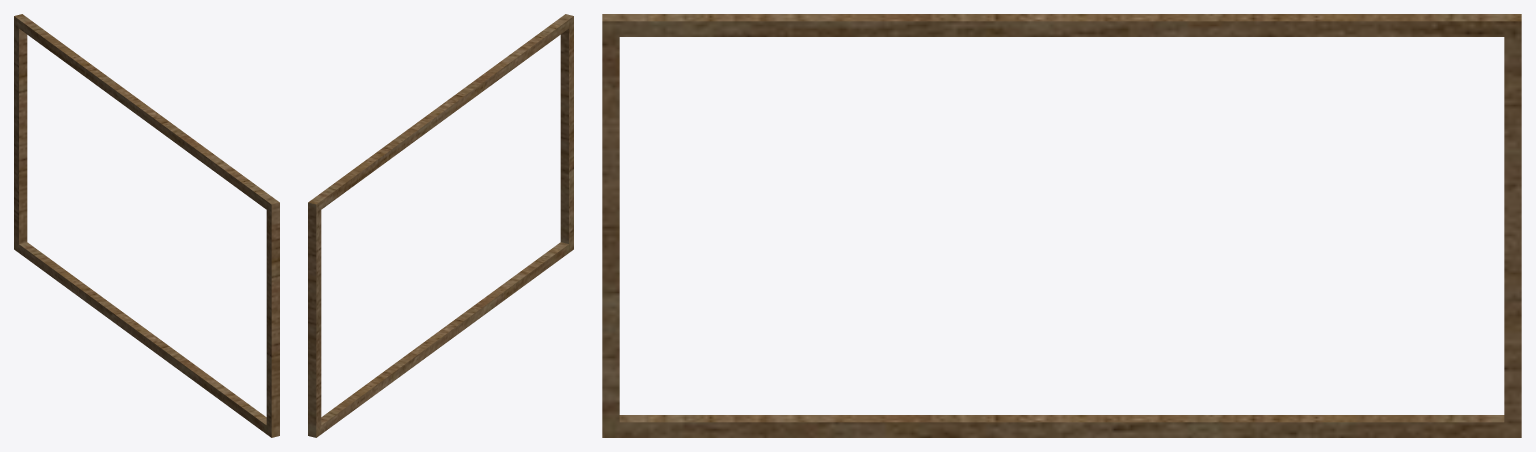
Rendered from window.obj.
The picture shows the model from 3 angles, left to right: view 1: azimuth 30°, elevation 25°; view 2: azimuth 150°, elevation 25°; view 3: azimuth 270°, elevation 25°; orthographic projection. The views are drawn at different scales.
Parts seen in each view (by area): view 1: Mesh1 ventana_animacion Window_2_1 Windows_Level_1 _____________; view 2: Mesh1 ventana_animacion Window_2_1 Windows_Level_1 _____________; view 3: Mesh1 ventana_animacion Window_2_1 Windows_Level_1 _____________.
Part boxes in pixels (bbox=[...]): Mesh1 ventana_animacion Window_2_1 Windows_Level_1 _____________: bbox=[14, 14, 279, 437]; Mesh1 ventana_animacion Window_2_1 Windows_Level_1 _____________: bbox=[308, 14, 573, 437]; Mesh1 ventana_animacion Window_2_1 Windows_Level_1 _____________: bbox=[602, 14, 1521, 437].
Size of the model in its own units: 0.02 by 0.5336 by 1.07.
